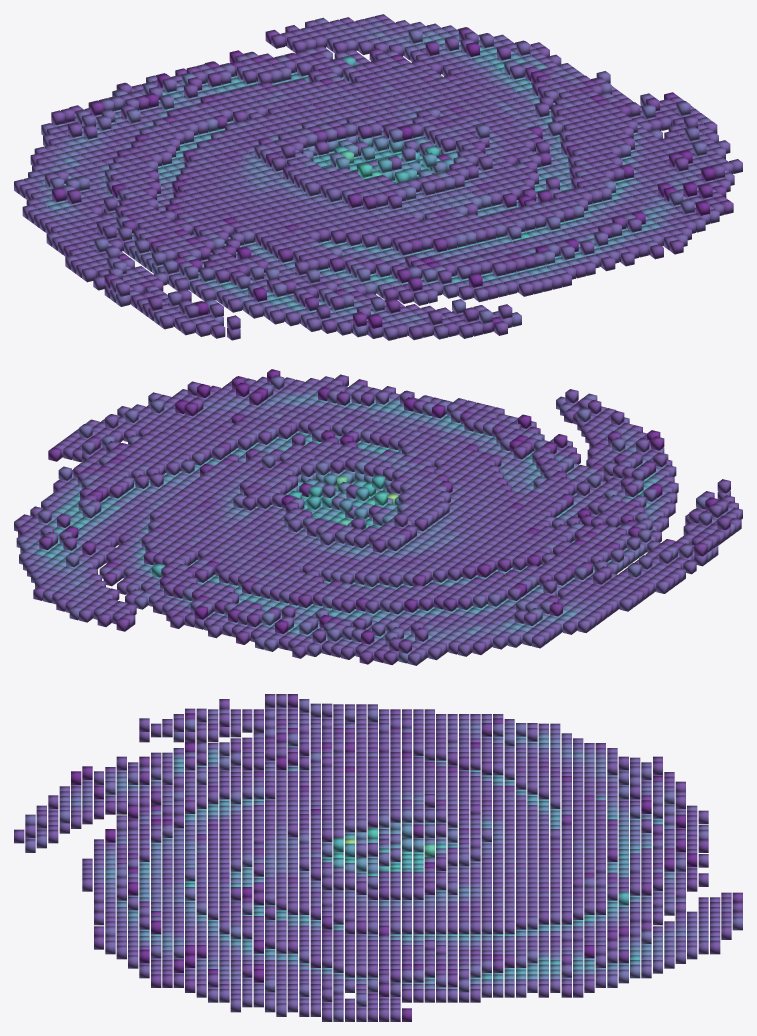
File: system_mass_A.gltf
3 renders of one model, top to bottom at view 1: azimuth 30°, elevation 25°; view 2: azimuth 150°, elevation 25°; view 3: azimuth 270°, elevation 25°, orthographic. The views are drawn at different scales.
Parts seen in each view (by area): view 1: Renderer Node; view 2: Renderer Node; view 3: Renderer Node.
Boxes of the visible parts, x1=… form: Renderer Node: x1=14, y1=14, x2=742, y2=340; Renderer Node: x1=14, y1=369, x2=742, y2=665; Renderer Node: x1=14, y1=694, x2=742, y2=1021.
Size of the model in its own units: 81792 by 7552 by 81792.
